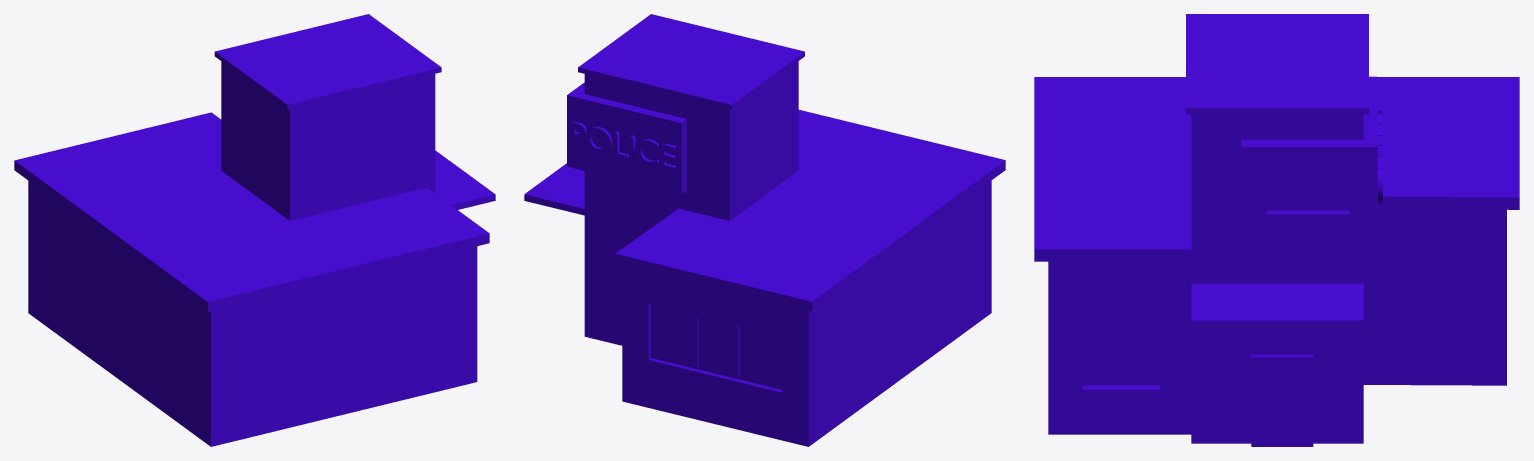
Rendered from police.fbx.
3 views of the same model, side by side, from view 1: azimuth 30°, elevation 25°; view 2: azimuth 150°, elevation 25°; view 3: azimuth 270°, elevation 25° (orthographic). The views are drawn at different scales.
Visible parts, largest first — view 1: ShortPart, RoofShortPart, TallPart, RoofTallPart; view 2: ShortPart, RoofShortPart, TallPart, RoofTallPart, Cabina, Window1, Text, WindowRama1; view 3: RoofShortPart, ShortPart, TallPart, RoofTallPart, Cabina, Window2, Door, WindowCabina, RamaWindow2, RamaCabina, Text.
Part boxes in pixels (x1=…): ShortPart: x1=28, y1=181, x2=477, y2=446; RoofShortPart: x1=14, y1=112, x2=489, y2=311; TallPart: x1=221, y1=61, x2=495, y2=220; RoofTallPart: x1=214, y1=14, x2=441, y2=109; ShortPart: x1=622, y1=180, x2=991, y2=446; RoofShortPart: x1=615, y1=109, x2=1005, y2=311; TallPart: x1=524, y1=61, x2=798, y2=345; RoofTallPart: x1=578, y1=14, x2=804, y2=109; Cabina: x1=567, y1=82, x2=686, y2=194; Window1: x1=653, y1=305, x2=782, y2=387; Text: x1=570, y1=120, x2=675, y2=171; WindowRama1: x1=651, y1=305, x2=782, y2=389; RoofShortPart: x1=1034, y1=77, x2=1519, y2=261; ShortPart: x1=1048, y1=209, x2=1506, y2=434; TallPart: x1=1191, y1=114, x2=1363, y2=443; RoofTallPart: x1=1186, y1=14, x2=1368, y2=114; Cabina: x1=1241, y1=76, x2=1377, y2=236; Window2: x1=1085, y1=289, x2=1156, y2=381; Door: x1=1251, y1=354, x2=1313, y2=446; WindowCabina: x1=1267, y1=161, x2=1348, y2=210; RamaWindow2: x1=1082, y1=289, x2=1159, y2=385; RamaCabina: x1=1267, y1=161, x2=1348, y2=210; Text: x1=1378, y1=110, x2=1382, y2=204.
Bounding box in the file's own units: 1085 × 798 × 1038.
